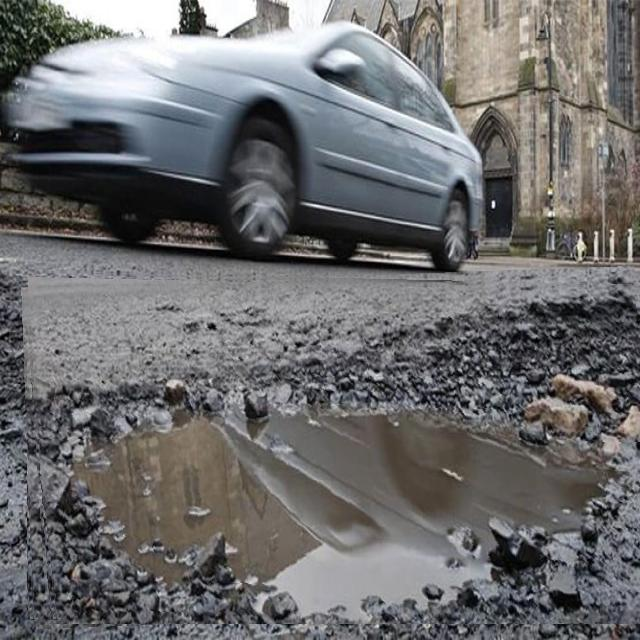Pothole: (24, 271, 640, 624)
